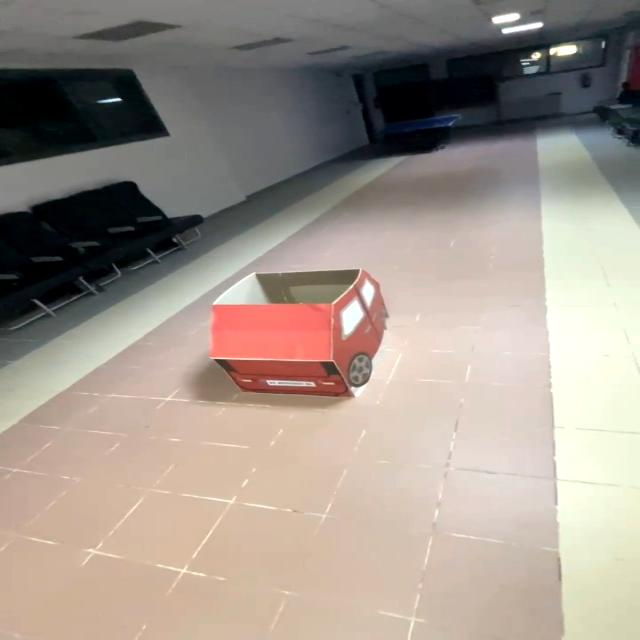red_car: (173, 262, 417, 409)
